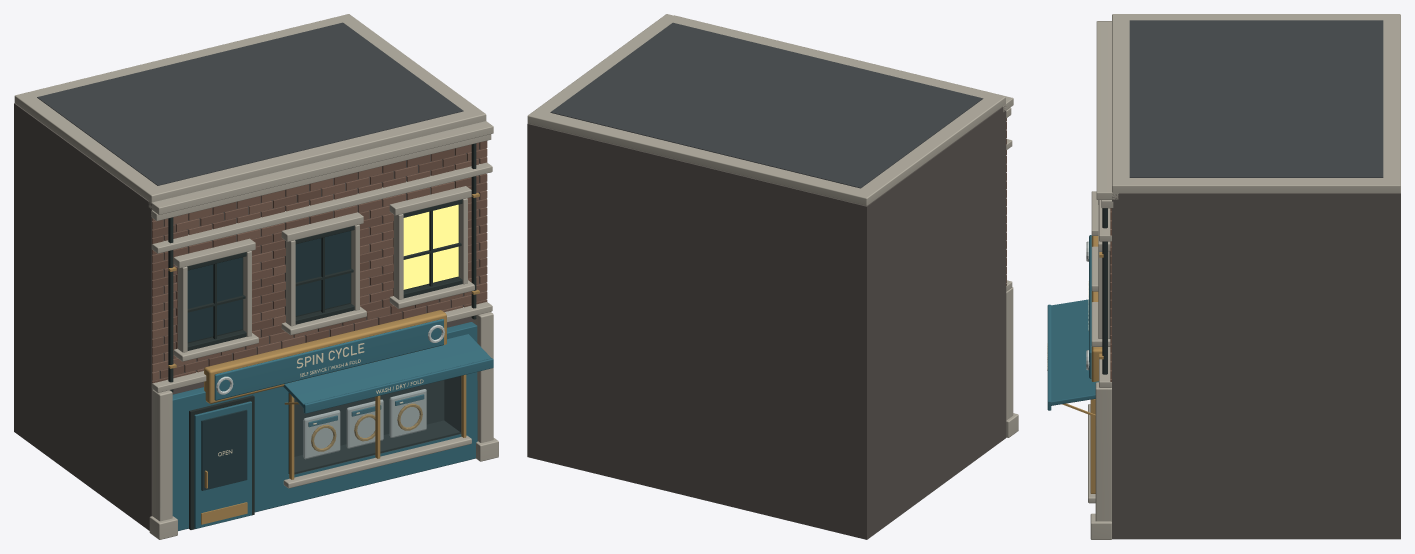
The model's file is district-spin-cycle.glb.
3 renders of one model, left to right at view 1: azimuth 30°, elevation 25°; view 2: azimuth 150°, elevation 25°; view 3: azimuth 270°, elevation 25°, orthographic. The views are drawn at different scales.
Visible parts, largest first — view 1: Existing envelope, District Roof membrane, District Warm limestone, District Coffee enamel, District Charcoal painted metal, Roof cap, District Opaque dark glazing, District Shop window clear glazing, District Brick tone 0, Sign enamel inset, District Brick tone 3, District Brick tone 4 (+7 smaller); view 2: Existing envelope, District Roof membrane, Roof cap, District Warm limestone; view 3: Existing envelope, District Roof membrane, Roof cap, District Warm limestone, District Coffee enamel, District Charcoal painted metal, District Aged brass, Sign brass frame, Sign enamel inset.
Boxes of the visible parts, x1=… form: Existing envelope: x1=14, y1=103, x2=486, y2=530; District Roof membrane: x1=37, y1=22, x2=463, y2=185; District Warm limestone: x1=148, y1=121, x2=498, y2=539; District Coffee enamel: x1=172, y1=322, x2=493, y2=530; District Charcoal painted metal: x1=168, y1=143, x2=476, y2=529; Roof cap: x1=14, y1=14, x2=486, y2=202; District Opaque dark glazing: x1=187, y1=231, x2=350, y2=490; District Shop window clear glazing: x1=294, y1=376, x2=460, y2=474; District Brick tone 0: x1=152, y1=148, x2=487, y2=383; Sign enamel inset: x1=214, y1=319, x2=443, y2=400; District Brick tone 3: x1=152, y1=148, x2=487, y2=360; District Brick tone 4: x1=152, y1=159, x2=487, y2=380; Existing envelope: x1=527, y1=106, x2=1006, y2=539; District Roof membrane: x1=550, y1=22, x2=983, y2=188; Roof cap: x1=527, y1=14, x2=1005, y2=206; District Warm limestone: x1=674, y1=15, x2=1018, y2=437; Existing envelope: x1=1112, y1=193, x2=1400, y2=539; District Roof membrane: x1=1129, y1=20, x2=1383, y2=177; Roof cap: x1=1112, y1=14, x2=1400, y2=193; District Warm limestone: x1=1088, y1=21, x2=1118, y2=539; District Coffee enamel: x1=1047, y1=299, x2=1098, y2=410; District Charcoal painted metal: x1=1102, y1=208, x2=1110, y2=374; District Aged brass: x1=1062, y1=252, x2=1103, y2=493; Sign brass frame: x1=1091, y1=236, x2=1102, y2=381; Sign enamel inset: x1=1089, y1=235, x2=1091, y2=378.
Bounding box in the file's own units: 7.71 × 7.31 × 6.62.
